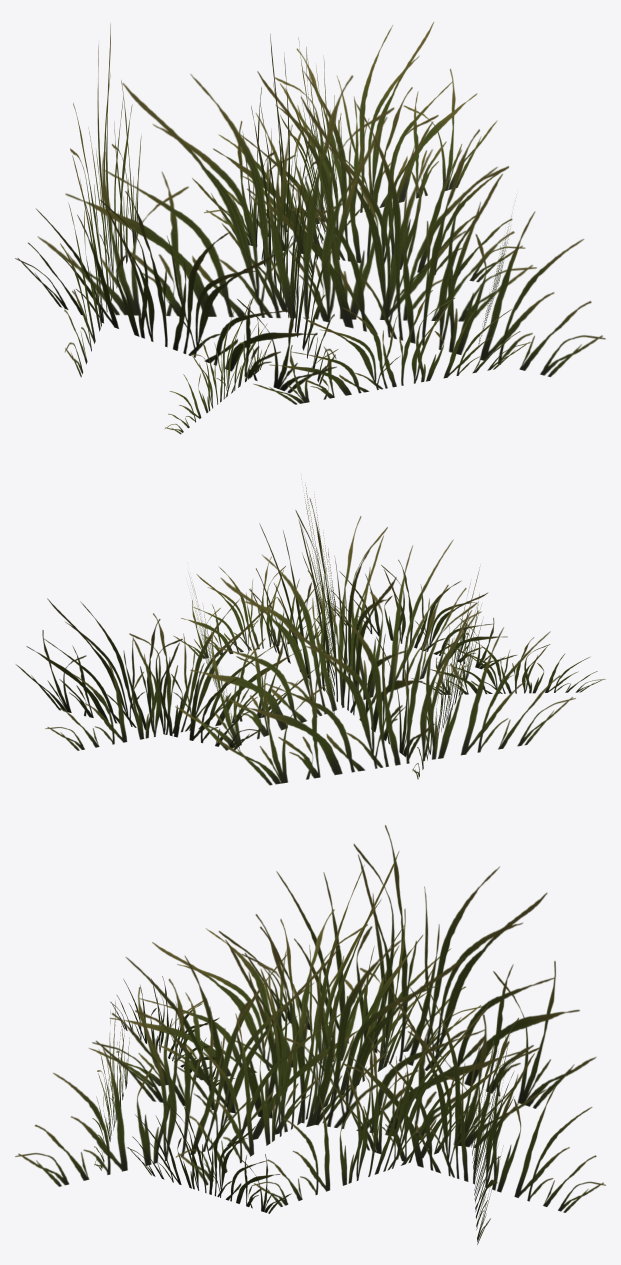
The model's file is grass2_lod0.glb.
The picture shows the model from 3 angles, top to bottom: view 1: azimuth 30°, elevation 25°; view 2: azimuth 150°, elevation 25°; view 3: azimuth 270°, elevation 25°; orthographic projection. The views are drawn at different scales.
Parts seen in each view (by area): view 1: grass2_LOD0; view 2: grass2_LOD0; view 3: grass2_LOD0.
Part boxes in pixels (x1,y1,x2,y2): grass2_LOD0: [15, 22, 605, 434]; grass2_LOD0: [16, 475, 605, 785]; grass2_LOD0: [15, 825, 605, 1244].
Bounding box in the file's own units: 1.16 × 0.4831 × 1.09.
Materials: 1 (1 with a texture image).
